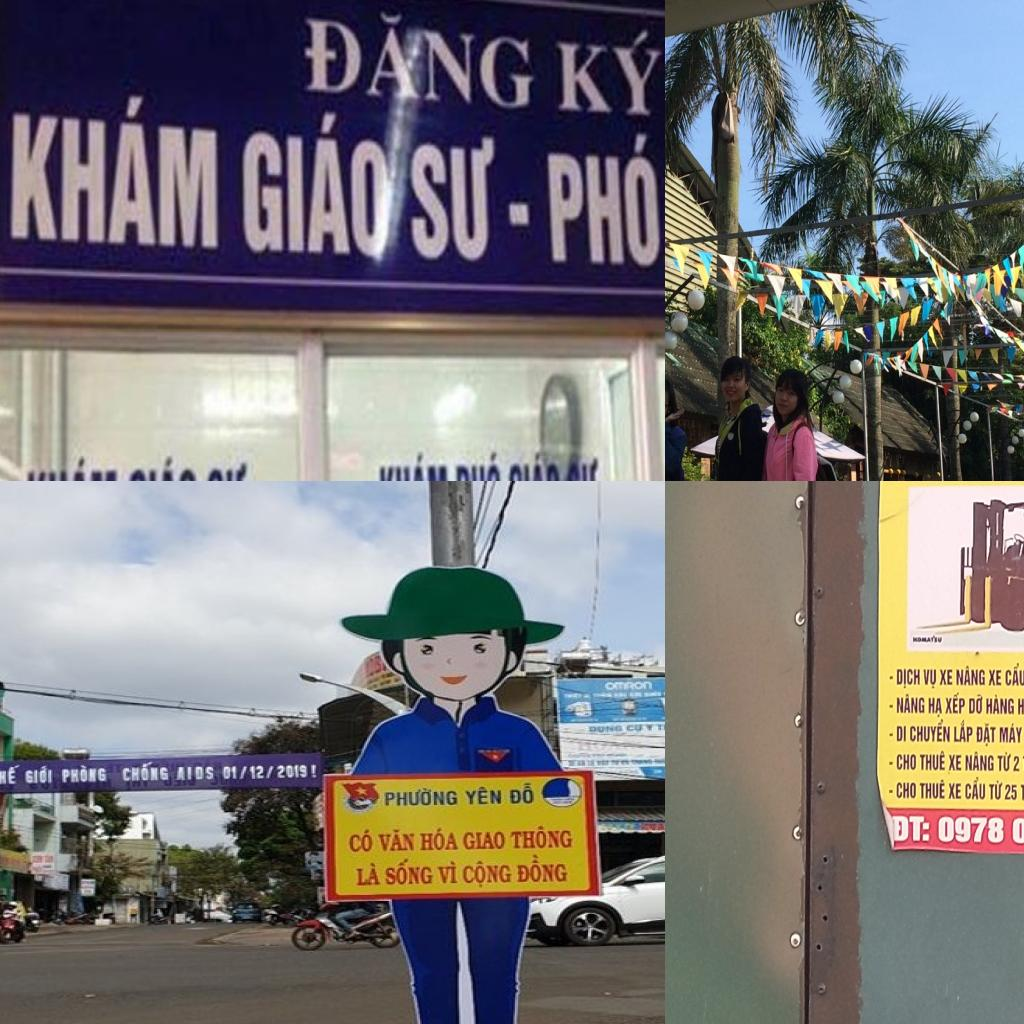text: (1, 79, 225, 257), (298, 0, 536, 115), (236, 98, 398, 266), (539, 127, 665, 273), (404, 127, 500, 267), (554, 23, 665, 121), (376, 442, 450, 481), (20, 452, 119, 481), (126, 446, 196, 481), (504, 446, 565, 481), (453, 442, 504, 481), (382, 786, 460, 810), (507, 825, 576, 851), (222, 764, 319, 782), (513, 854, 571, 884), (462, 858, 513, 889), (384, 857, 436, 887), (891, 812, 932, 844), (205, 456, 250, 481), (375, 828, 417, 854), (418, 828, 460, 854), (909, 718, 951, 744), (462, 830, 509, 852), (564, 454, 602, 481), (462, 785, 506, 807), (60, 764, 108, 784), (122, 762, 170, 782), (347, 827, 375, 855), (955, 664, 986, 688), (354, 862, 382, 888), (964, 750, 995, 773), (508, 781, 536, 806), (985, 694, 1015, 716), (508, 201, 532, 228), (896, 693, 925, 715), (436, 860, 460, 886), (919, 749, 946, 772), (23, 764, 54, 784), (176, 766, 216, 781), (896, 666, 922, 689), (920, 778, 946, 800), (964, 776, 986, 801), (976, 721, 996, 748), (944, 691, 966, 715), (999, 722, 1023, 744), (954, 719, 974, 745), (604, 681, 655, 691), (1005, 662, 1024, 687), (0, 764, 21, 786), (895, 751, 918, 771), (896, 779, 917, 800), (586, 724, 626, 735), (927, 695, 944, 718), (968, 692, 984, 716), (922, 667, 938, 690), (996, 750, 1012, 773), (988, 778, 1004, 801), (912, 634, 943, 645), (939, 666, 953, 688), (947, 781, 962, 801), (1003, 782, 1018, 802), (948, 753, 963, 771), (988, 668, 1002, 687), (895, 724, 907, 744), (626, 723, 644, 733), (1017, 693, 1024, 716), (648, 822, 665, 831), (1012, 754, 1020, 772), (644, 723, 655, 733), (653, 723, 665, 732), (888, 731, 894, 738), (888, 760, 894, 767), (888, 674, 894, 680), (888, 702, 894, 708), (888, 789, 894, 794)
